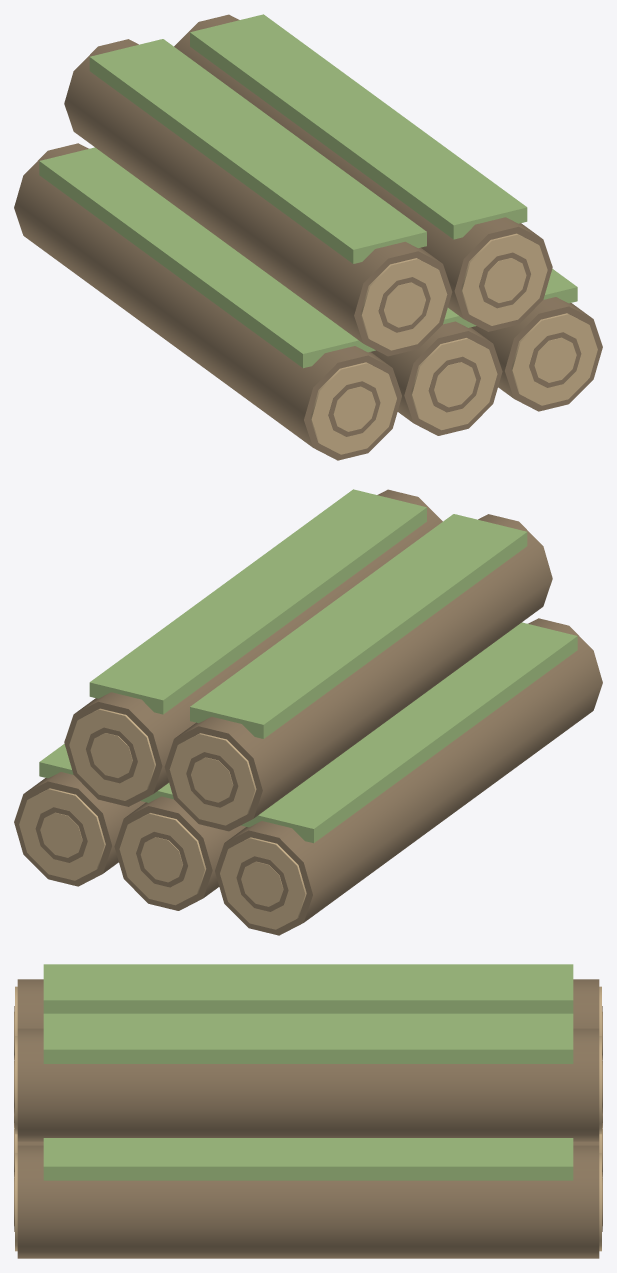
The model's file is cover-timber-mossy.glb.
3 renders of one model, top to bottom at view 1: azimuth 30°, elevation 25°; view 2: azimuth 150°, elevation 25°; view 3: azimuth 270°, elevation 25°, orthographic.
Visible parts, largest first — view 1: cover-timber-kit-mossy-top, cover-timber-kit-mossy-wood, cover-timber-kit-mossy-end; view 2: cover-timber-kit-mossy-top, cover-timber-kit-mossy-wood, cover-timber-kit-mossy-end; view 3: cover-timber-kit-mossy-wood, cover-timber-kit-mossy-top, cover-timber-kit-mossy-end.
Part boxes in pixels (bbox=[...]): cover-timber-kit-mossy-top: bbox=[39, 14, 577, 368]; cover-timber-kit-mossy-wood: bbox=[14, 14, 602, 460]; cover-timber-kit-mossy-end: bbox=[310, 233, 597, 454]; cover-timber-kit-mossy-top: bbox=[39, 489, 577, 843]; cover-timber-kit-mossy-wood: bbox=[14, 489, 602, 935]; cover-timber-kit-mossy-end: bbox=[19, 708, 306, 929]; cover-timber-kit-mossy-wood: bbox=[14, 979, 602, 1258]; cover-timber-kit-mossy-top: bbox=[43, 964, 573, 1180]; cover-timber-kit-mossy-end: bbox=[14, 986, 602, 1251].
Bounding box in the file's own units: 1.43 × 0.8875 × 2.43.
